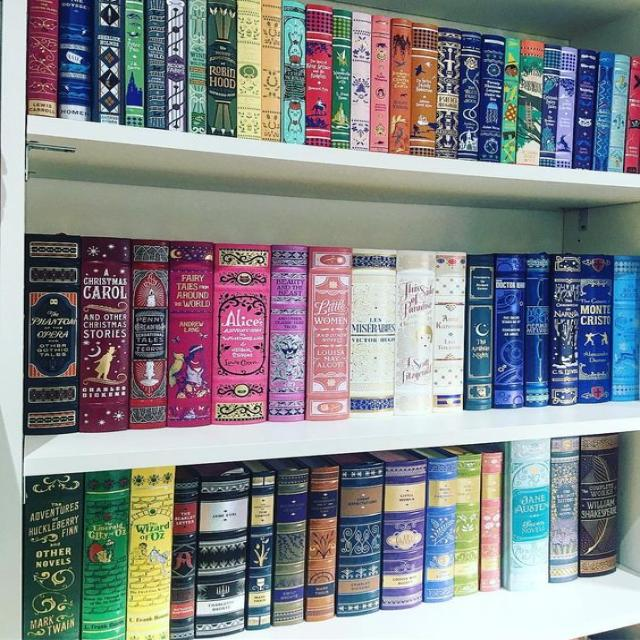book: (24, 233, 81, 435), (211, 242, 272, 424), (22, 472, 83, 639), (79, 235, 129, 431), (196, 473, 250, 639), (166, 240, 214, 426), (81, 469, 131, 640), (126, 465, 174, 640), (306, 247, 352, 420), (350, 249, 397, 418), (129, 239, 169, 430), (267, 244, 308, 421), (337, 465, 383, 618), (394, 251, 436, 414), (508, 438, 552, 590), (382, 459, 426, 610), (273, 469, 309, 627), (579, 434, 618, 577), (577, 254, 614, 404), (492, 253, 527, 410), (432, 252, 466, 413), (306, 465, 340, 622), (549, 254, 581, 405), (464, 254, 494, 411), (171, 478, 199, 640), (425, 457, 456, 603), (611, 254, 640, 402), (524, 253, 552, 406), (453, 455, 483, 597), (57, 0, 92, 120), (249, 471, 275, 631), (92, 0, 125, 125), (207, 0, 237, 137), (409, 22, 438, 157), (550, 439, 577, 583), (26, 0, 57, 117), (516, 40, 545, 165), (478, 34, 506, 163), (435, 28, 462, 159), (307, 5, 332, 146), (237, 0, 262, 140), (283, 0, 306, 145), (457, 31, 482, 161), (389, 18, 412, 155), (350, 11, 372, 151), (572, 48, 597, 169), (165, 0, 187, 132), (331, 9, 351, 149), (369, 15, 389, 153), (539, 44, 561, 167), (555, 47, 577, 168), (482, 452, 501, 590), (593, 52, 615, 171), (607, 55, 629, 172), (188, 0, 207, 134), (125, 0, 145, 127), (263, 0, 281, 141), (501, 39, 520, 163), (147, 0, 165, 130), (623, 57, 640, 173)
